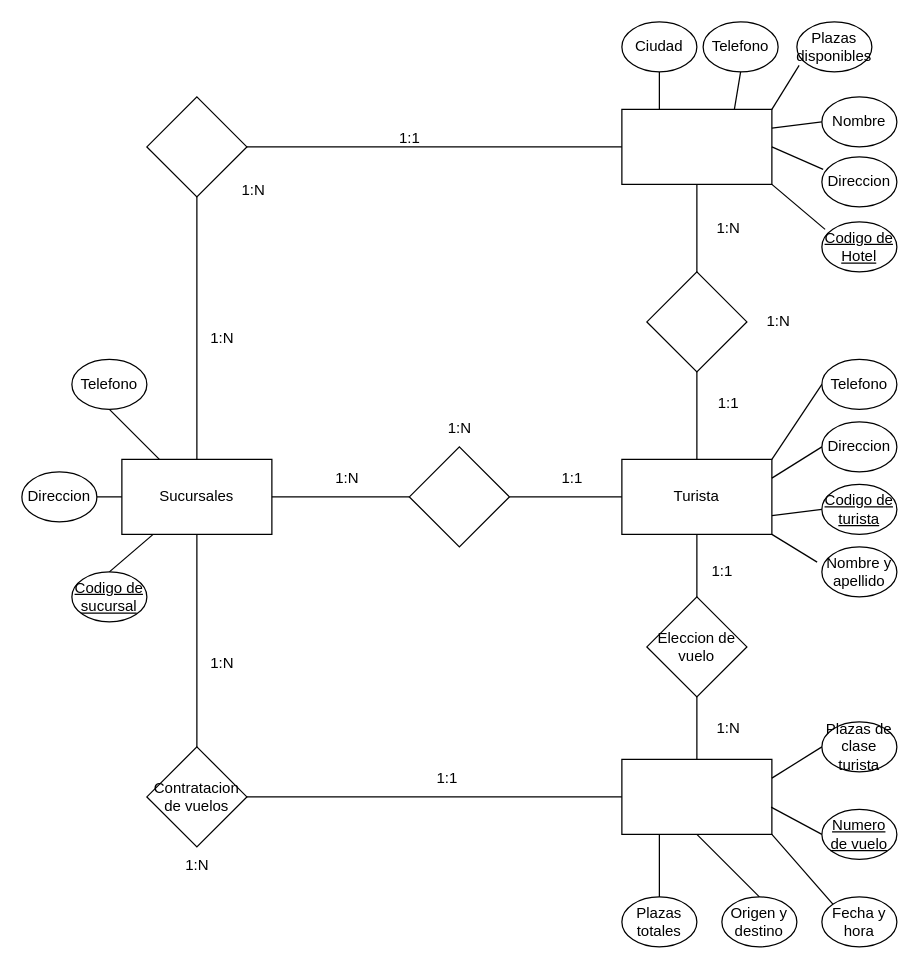
This 919x969 diagram has some shape labels left out. Here are the shapes that lost their labels. From the top down, the centre of each, then its label:
At (x=196, y=146): "Contratacion de hoteles".
At (x=696, y=146): "Hoteles".
At (x=696, y=321): "Eleccion de hotel".
At (x=458, y=496): "Contratacion de sucursal".
At (x=696, y=796): "Vuelos".
